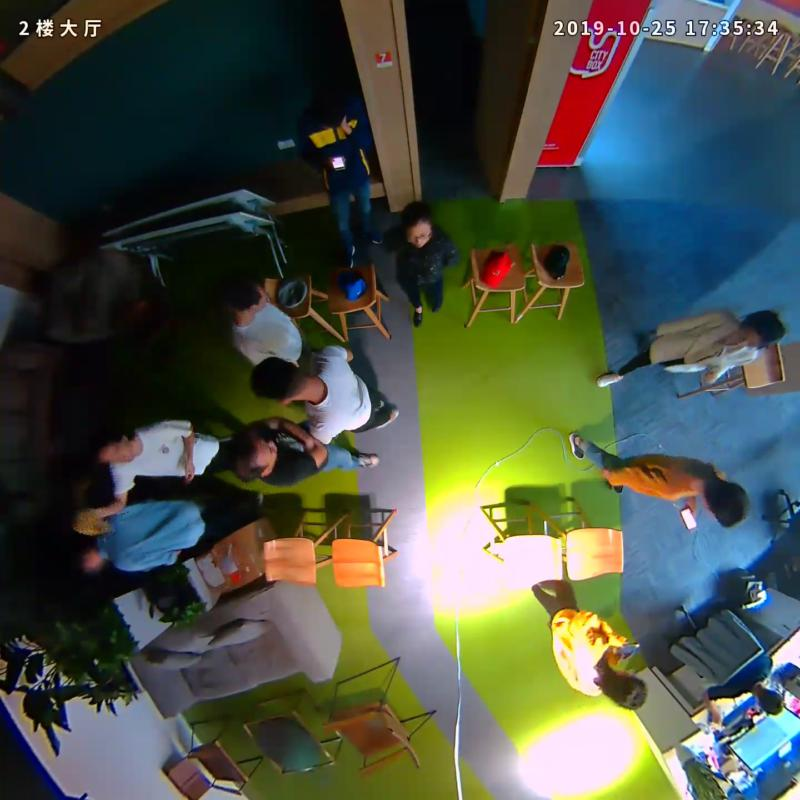head: (221, 430, 278, 479), (252, 357, 308, 401), (700, 479, 750, 527), (728, 310, 785, 352), (88, 423, 137, 464), (604, 667, 648, 711), (225, 273, 268, 311), (400, 201, 434, 248), (306, 92, 346, 129), (67, 542, 105, 579)
